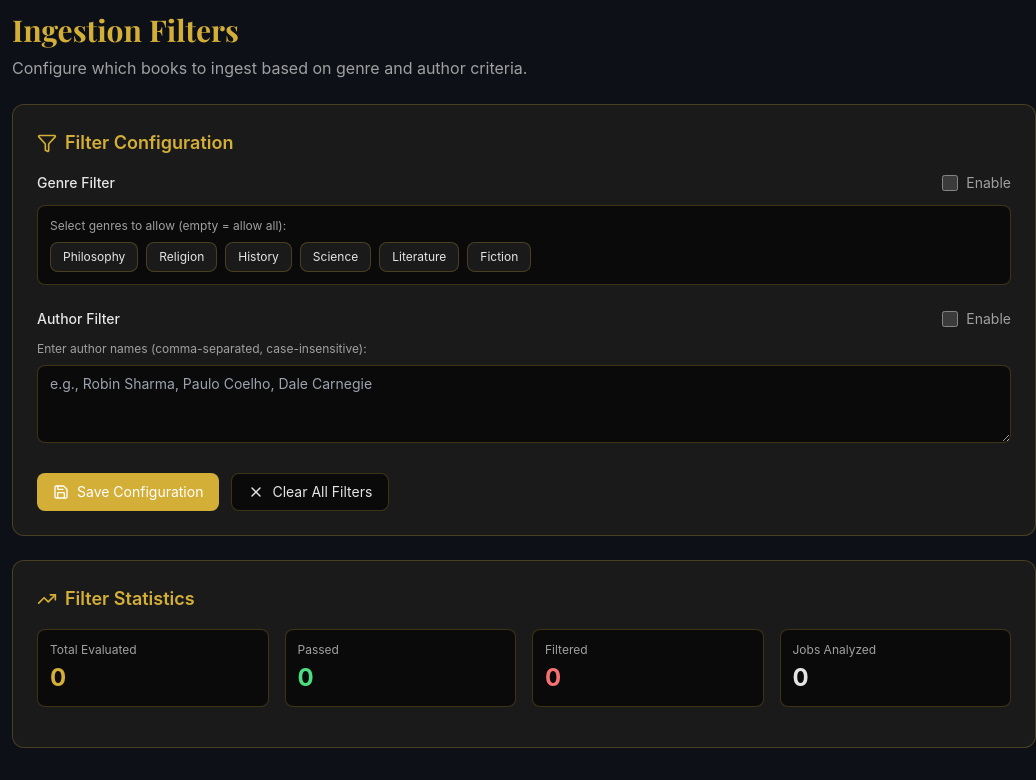
it: IngestionFiltersPanel - Unit Tests › Save Button › should show success message after successful save
Click the button "Save Configuration". click: (128, 492)
box: [37,473,219,511]
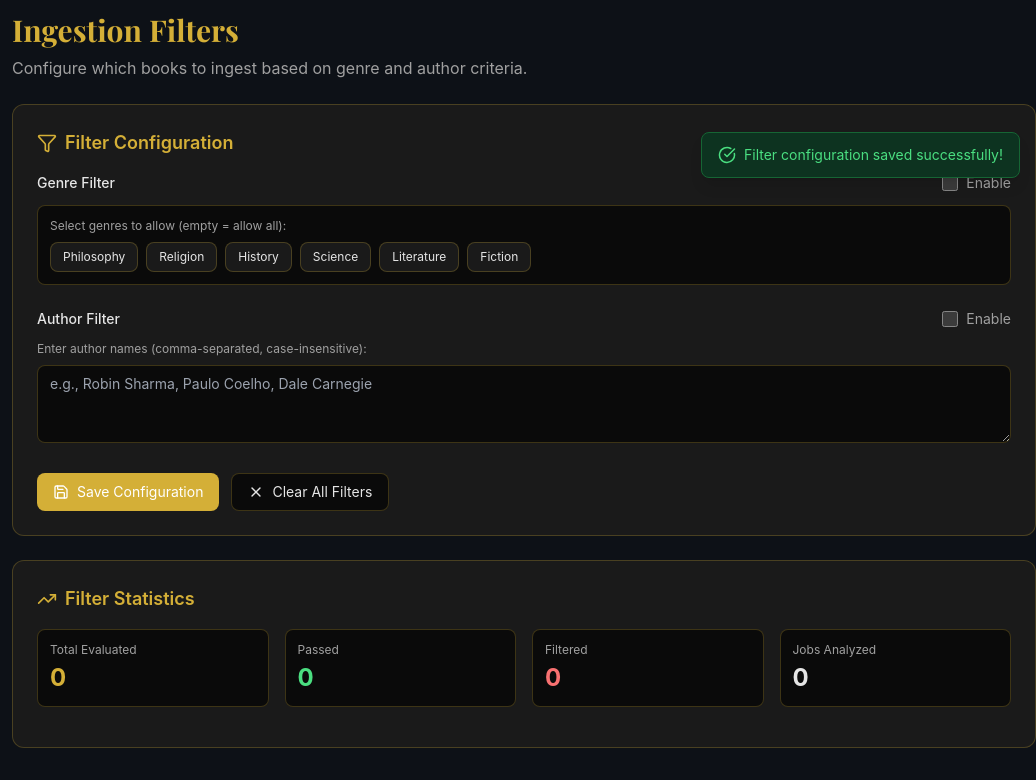
Expected: the text "Filter configuration saved successfully!" is shown, [701,132,1020,178]
